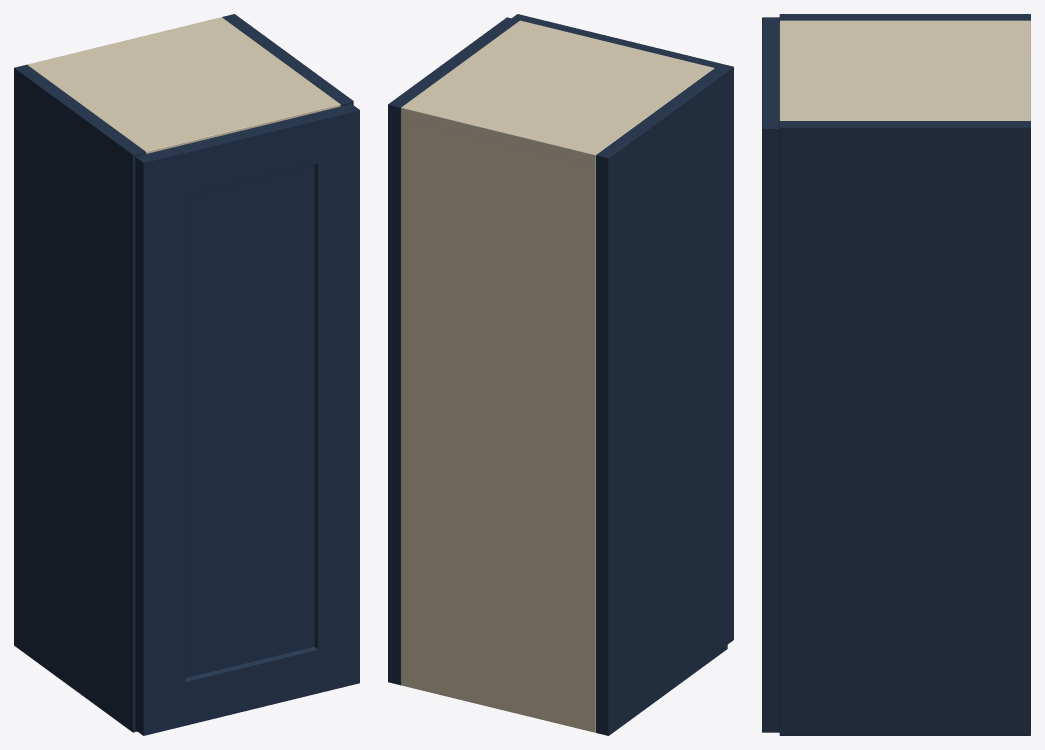
Rendered from oppein-ply-bss-w1230.glb.
The picture shows the model from 3 angles, left to right: view 1: azimuth 30°, elevation 25°; view 2: azimuth 150°, elevation 25°; view 3: azimuth 270°, elevation 25°; orthographic projection. The views are drawn at different scales.
Visible parts, largest first — view 1: Door, Cabinet side, Cabinet top, Cabinet side.001, Cabinet back; view 2: Cabinet back, Cabinet side, Cabinet top, Cabinet side.001, Door; view 3: Cabinet side.001, Cabinet top, Door, Cabinet side, Cabinet back.
Boxes of the visible parts, bbox=[...] form: Door: bbox=[135, 104, 359, 735]; Cabinet side: bbox=[14, 64, 145, 732]; Cabinet top: bbox=[27, 17, 340, 153]; Cabinet side.001: bbox=[222, 14, 353, 106]; Cabinet back: bbox=[28, 17, 225, 67]; Cabinet back: bbox=[401, 104, 599, 732]; Cabinet side: bbox=[596, 68, 727, 735]; Cabinet top: bbox=[401, 20, 714, 167]; Cabinet side.001: bbox=[388, 17, 519, 685]; Door: bbox=[512, 14, 733, 644]; Cabinet side.001: bbox=[779, 121, 1030, 735]; Cabinet top: bbox=[779, 20, 1030, 120]; Door: bbox=[762, 17, 779, 732]; Cabinet side: bbox=[779, 14, 1030, 20]; Cabinet back: bbox=[1020, 20, 1030, 120].
Size of the model in its own units: 0.3048 by 0.762 by 0.3048.
